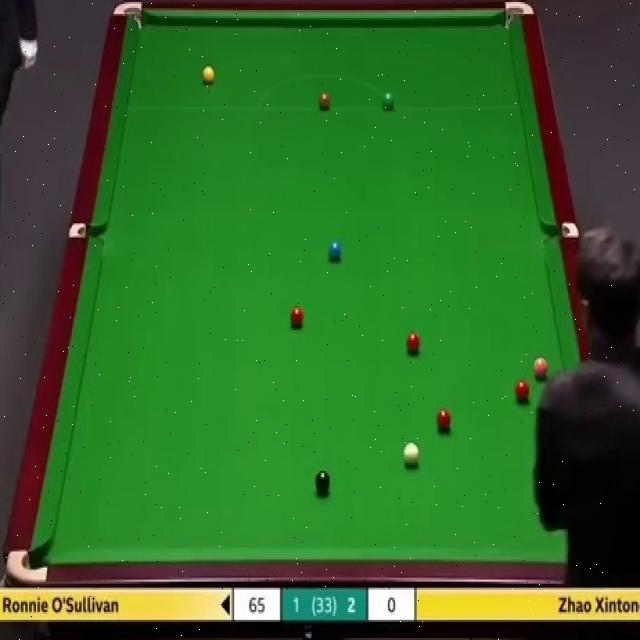black-ball: (314, 468, 330, 493)
blue-ball: (329, 240, 341, 263)
brown-ball: (319, 93, 331, 111)
green-ball: (383, 91, 394, 111)
pink-ball: (533, 355, 550, 381)
red-ball: (435, 408, 452, 433), (406, 329, 422, 354), (515, 380, 530, 402), (291, 306, 303, 329)
white-ball: (401, 441, 420, 468)
yellow-ball: (202, 66, 216, 87)
